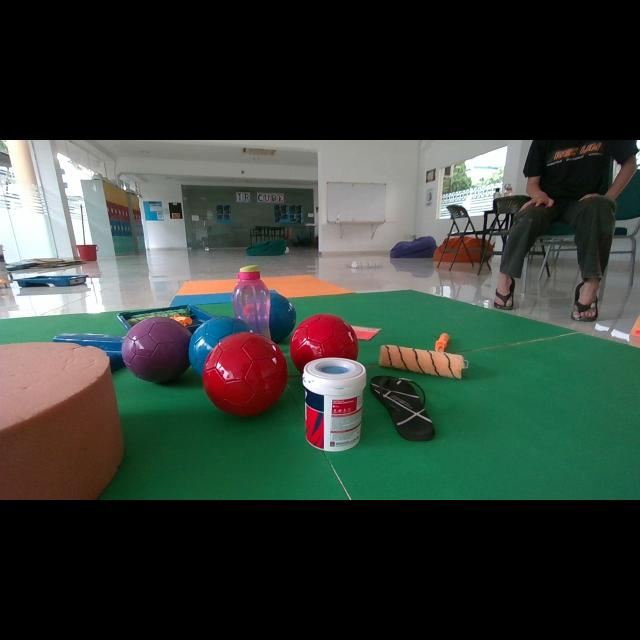B: (189, 316, 250, 376), (269, 290, 296, 342)
P: (121, 318, 191, 383)
R: (202, 332, 288, 416), (290, 314, 358, 373)
